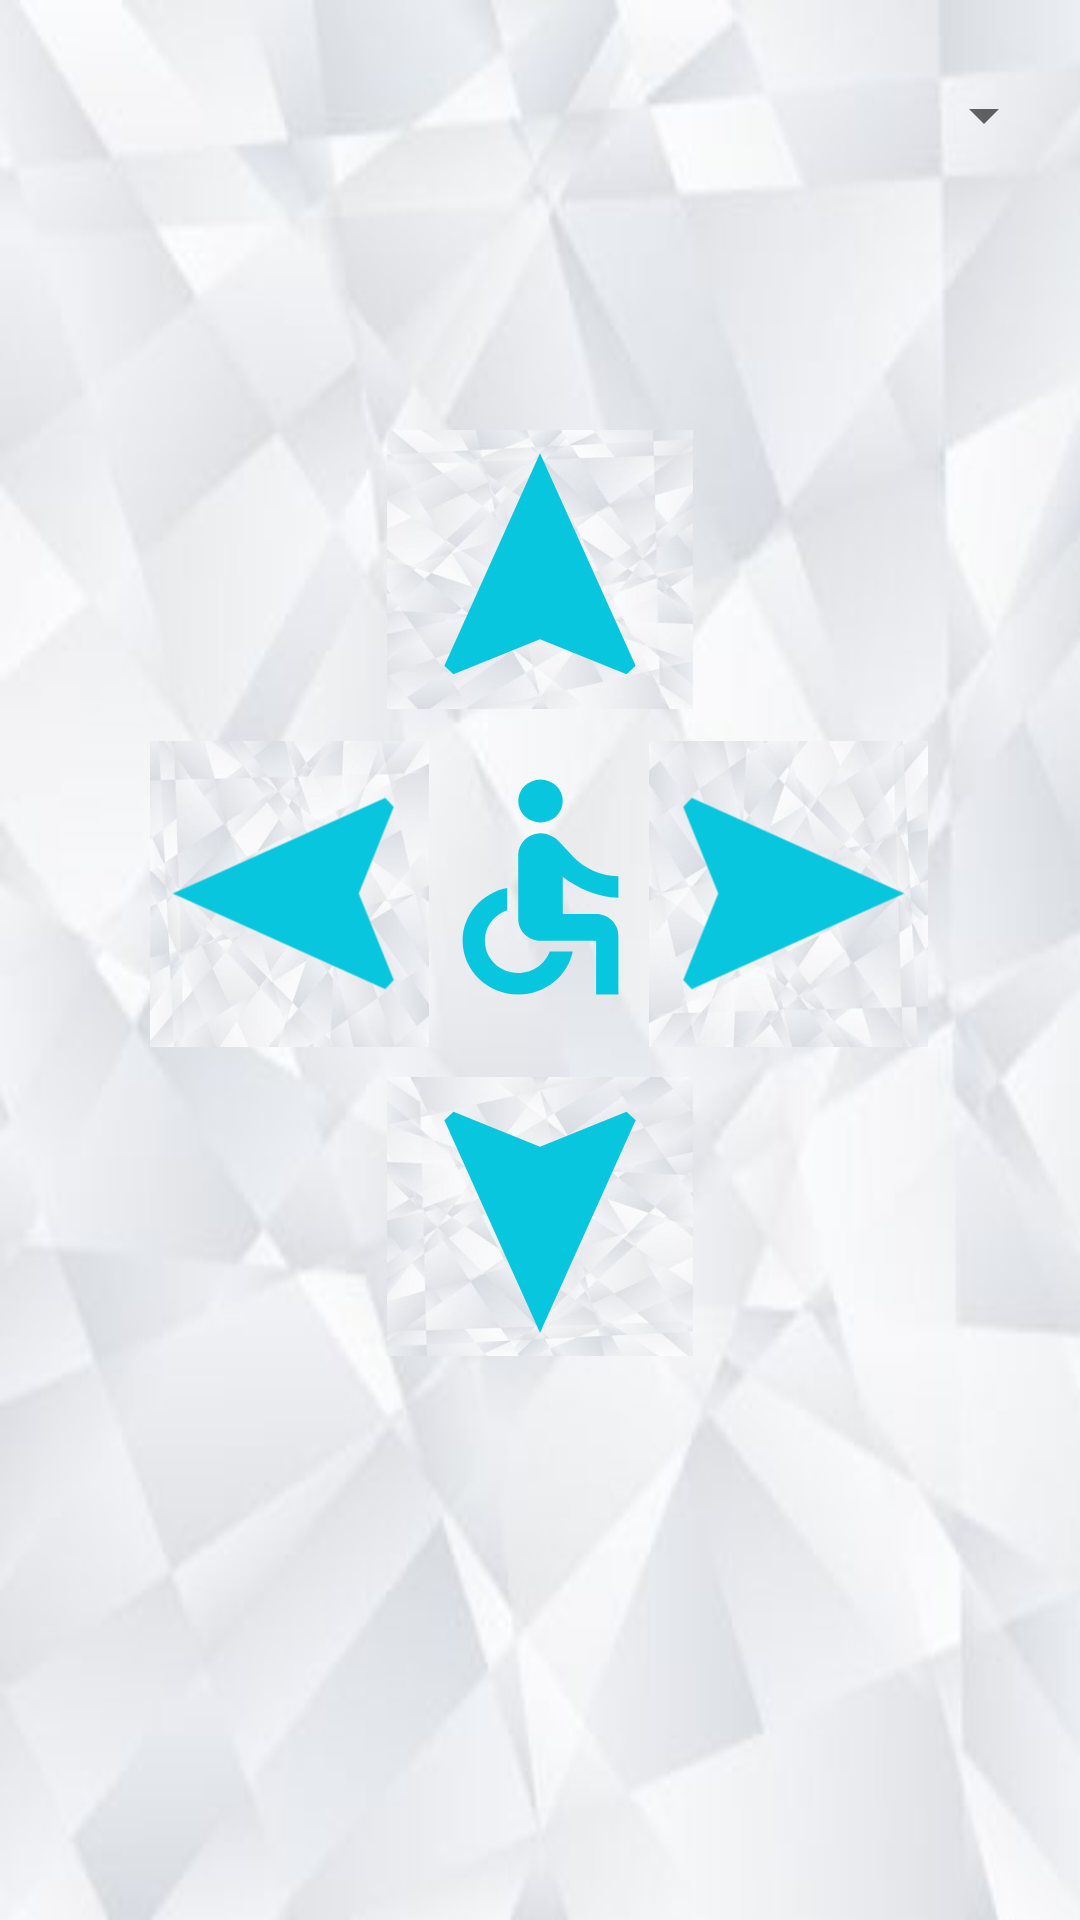

Icons on this 1080px×1920px Android screen, each with the point to tap as (x=x, y=y):
accessible: (x=540, y=876)
